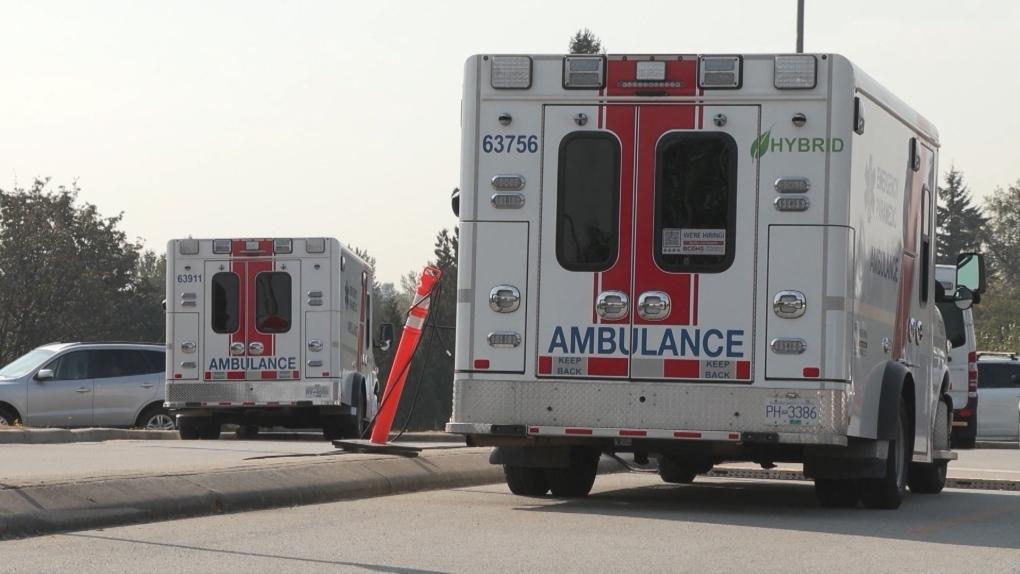ambulance_off: (443, 52, 987, 509), (161, 234, 386, 441)
